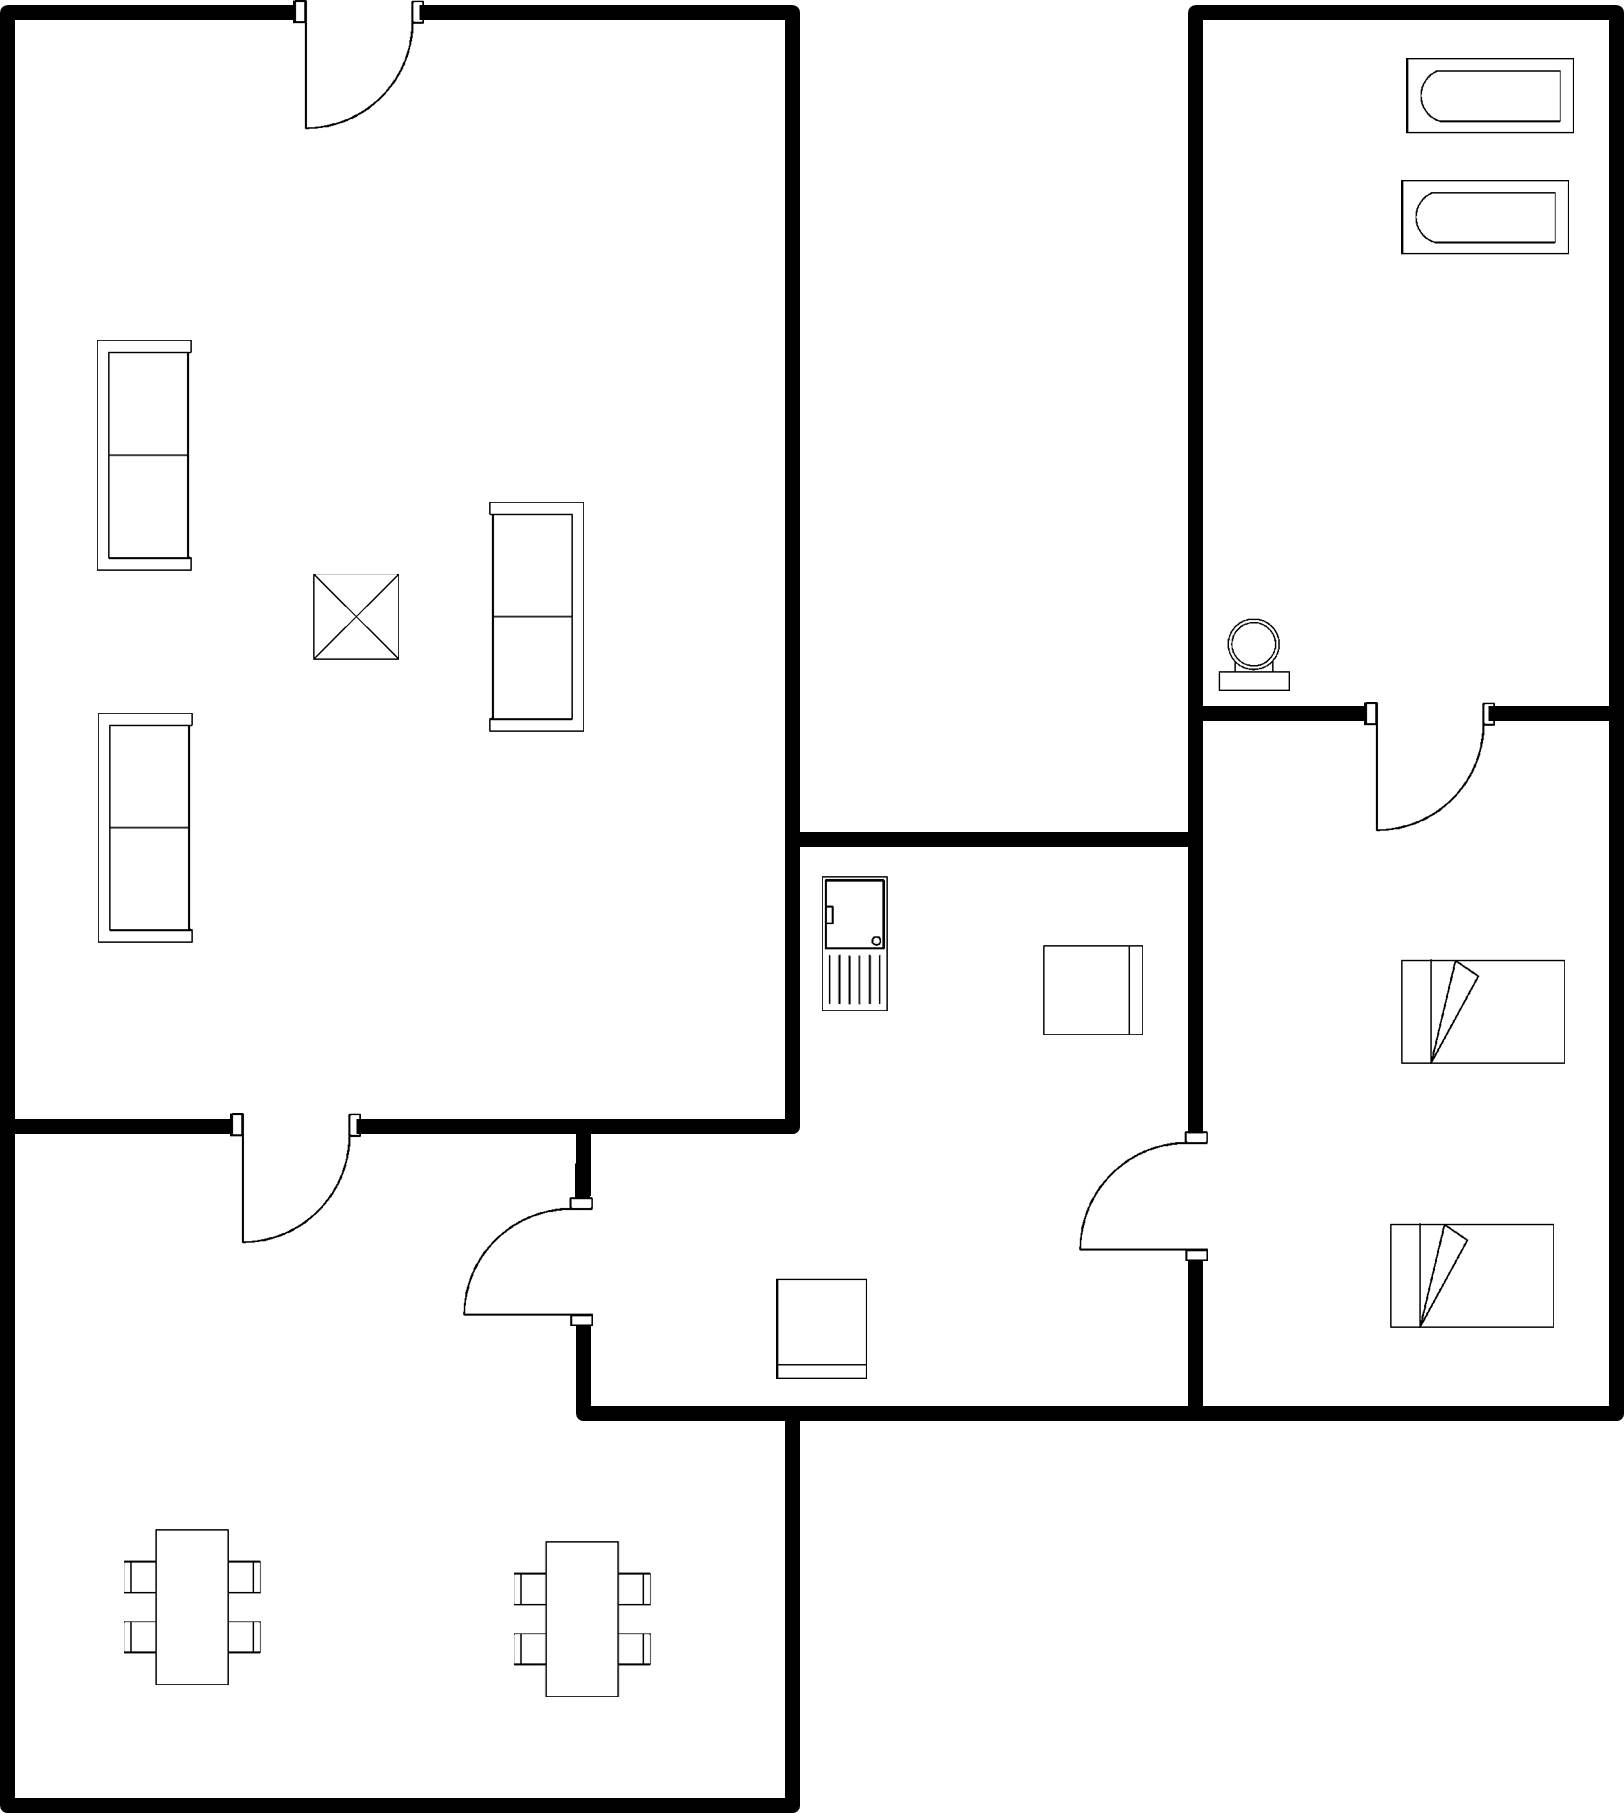bed: (1375, 1210, 1561, 1339), (1387, 951, 1577, 1076)
coffee_table: (298, 565, 409, 671)
dining_table: (111, 1515, 270, 1699), (505, 1530, 663, 1710)
large_sink: (1211, 614, 1302, 703)
large_sofa: (475, 490, 602, 744), (82, 328, 202, 589), (86, 701, 207, 955)
sink: (812, 867, 905, 1021)
small_sofa: (755, 1265, 882, 1394), (1032, 931, 1154, 1044)
tub: (1389, 164, 1582, 271), (1387, 47, 1586, 147)
